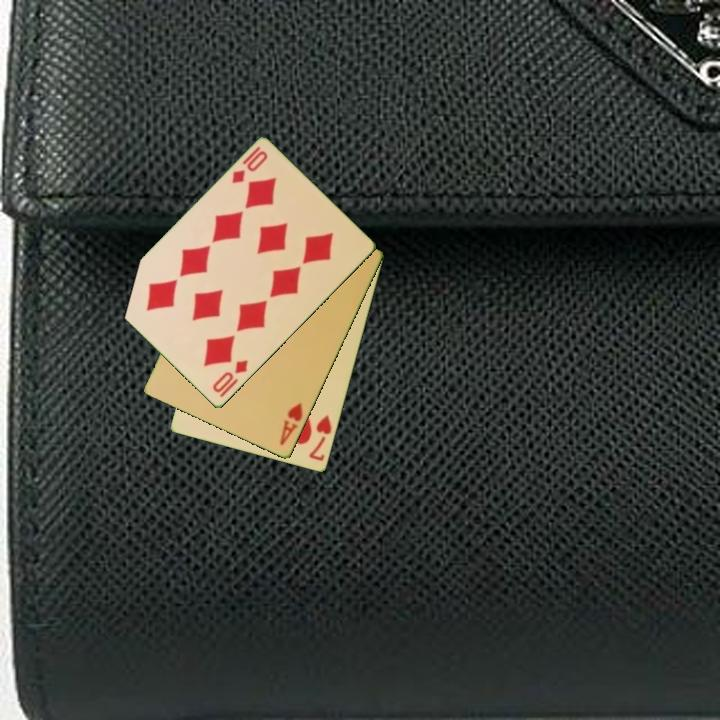10d: (209, 356, 251, 401), (228, 147, 271, 187)
7h: (306, 411, 335, 464)
Ah: (276, 399, 306, 449)
